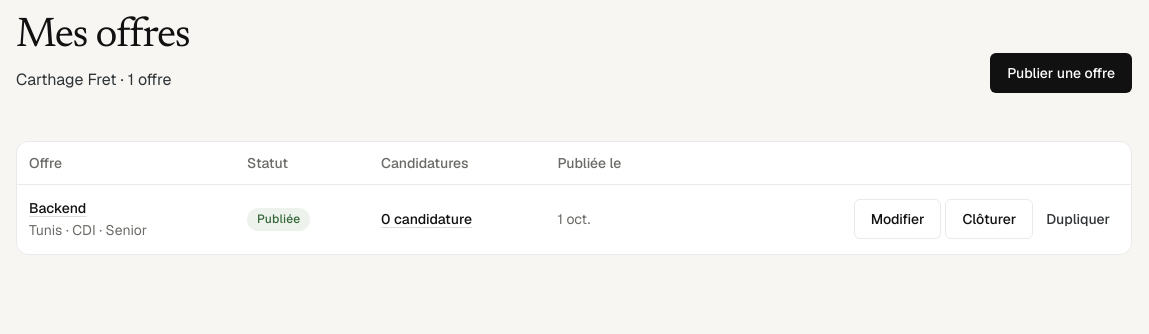
it: duplicating an offer (EXT-JOB-01) › shows why a duplication is refused
The image size is (1149, 334).
Click the button with aria-label "Dupliquer l’offre Backend": {"x": 1078, "y": 219} [1037, 199, 1119, 239]
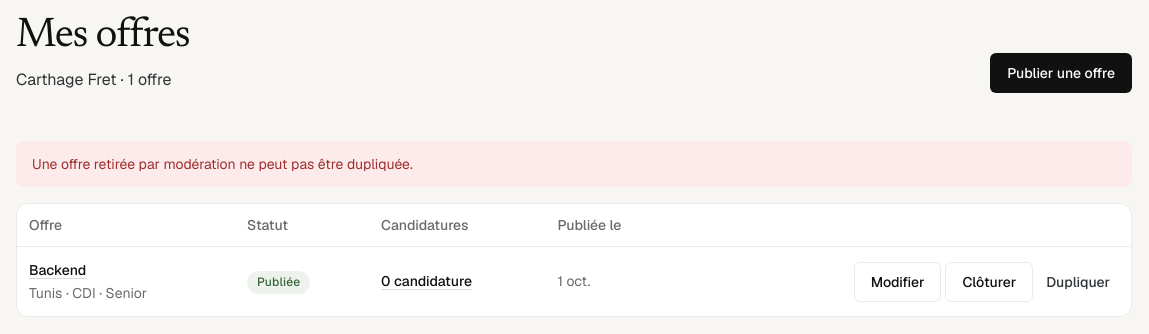
Now the message shows "ne peut pas être dupliquée", box [32, 154, 413, 172]
